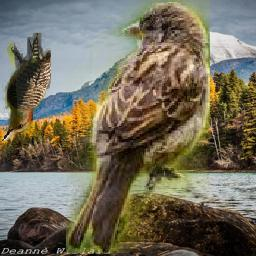Sparrow: (66, 0, 210, 253)
Woodpecker: (1, 33, 52, 141)
